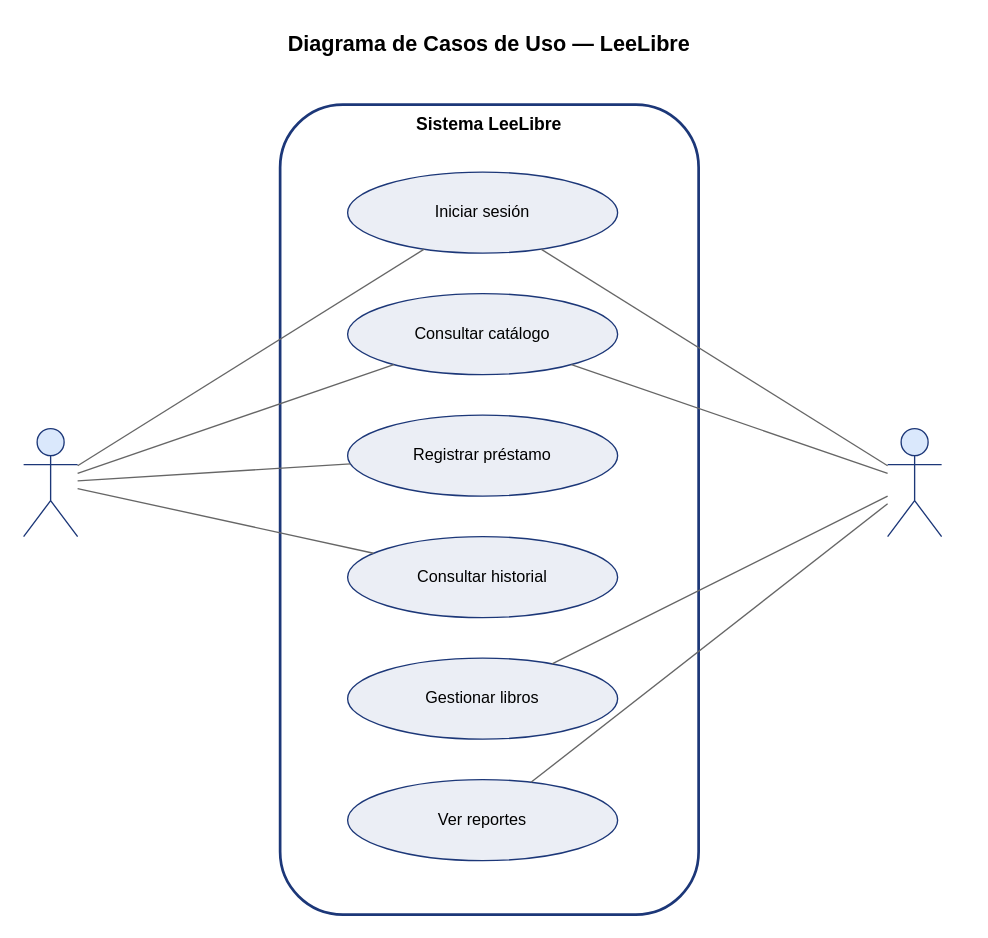
Image size: 988x938. Some labels were removed from this diagram. The shapes that lost their labels are listed below. From the top down, each one's centre as x and y in pixels, then its label:
[50,482]: Lector
[914,482]: Administrador
